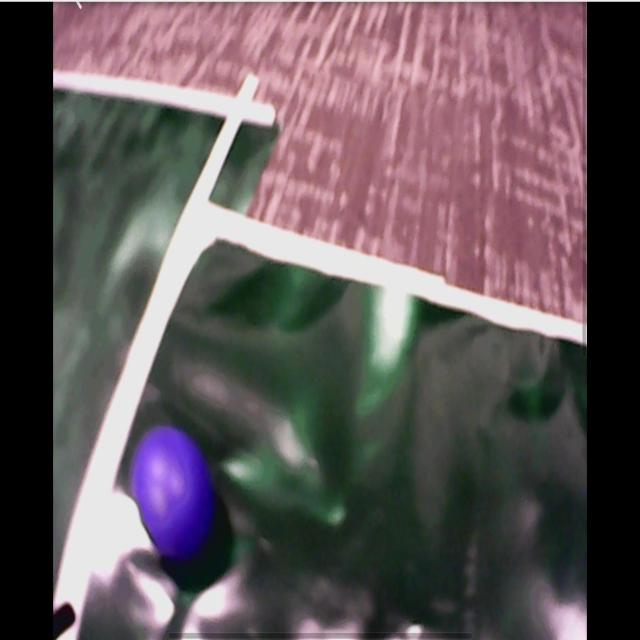ball: (132, 424, 211, 557)
